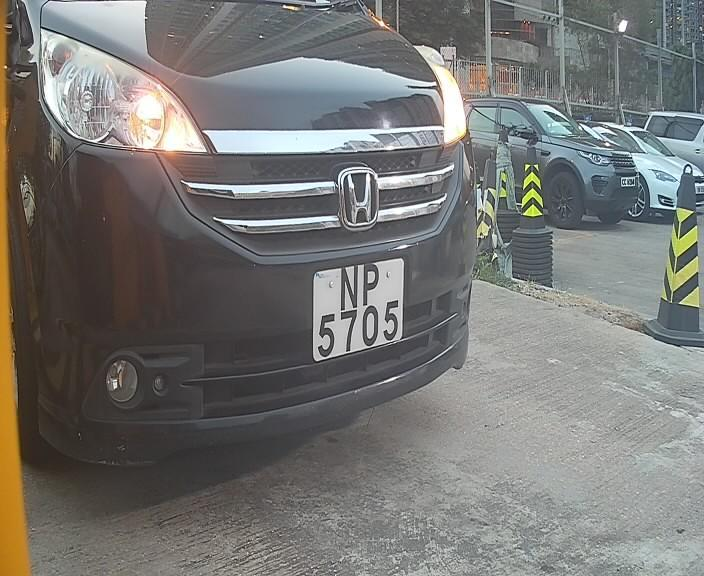privatecar: (2, 2, 500, 478)
